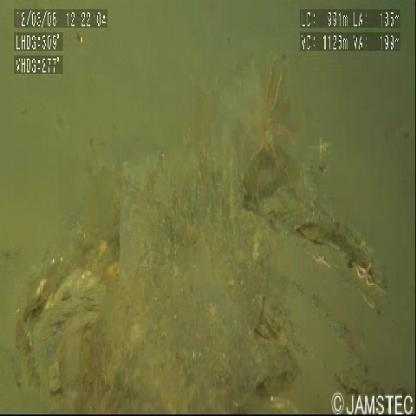Rác: (20, 54, 382, 390)
